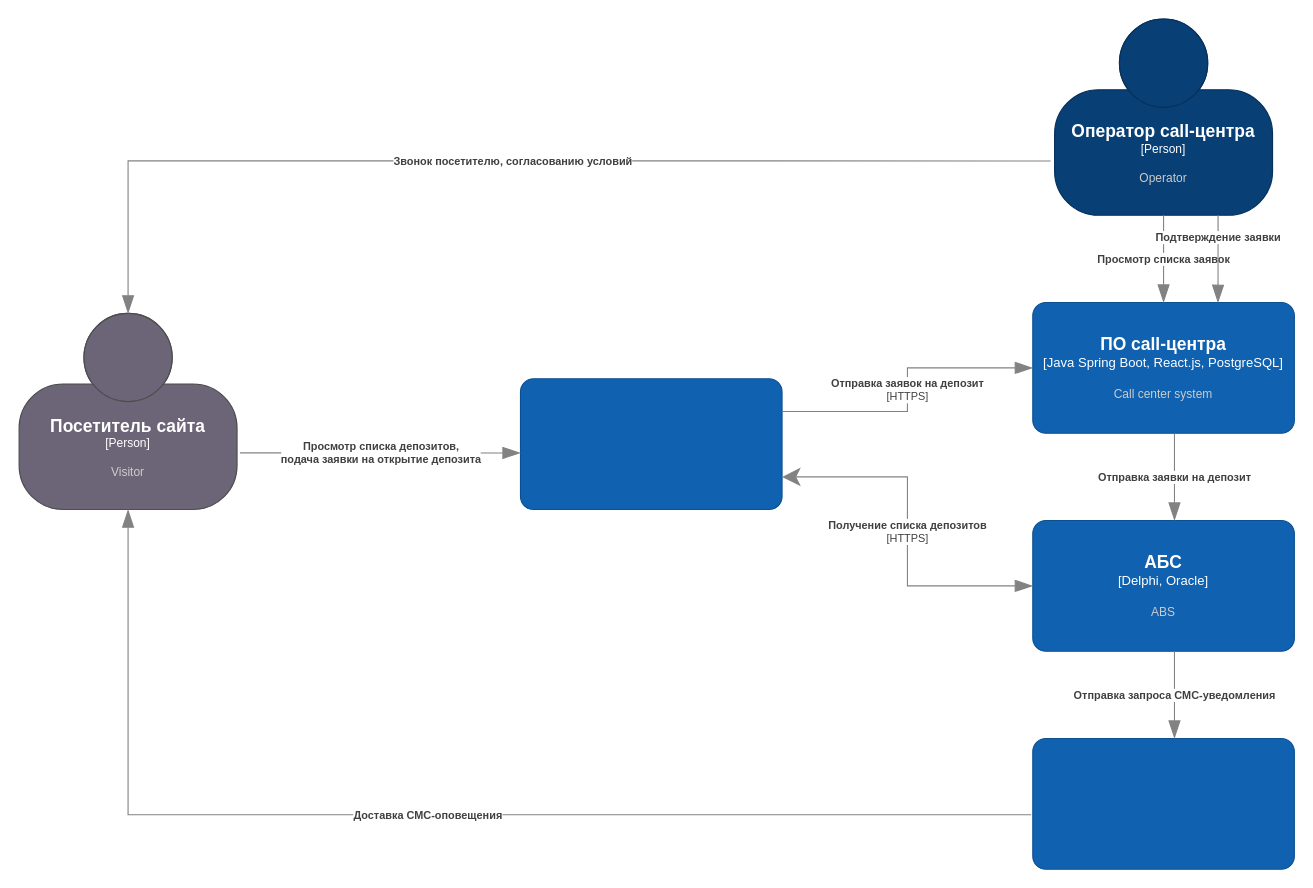
Image size: 1313x888. Some labels were removed from this diagram. The centre of each missing label's shape, as x and y in pixels:
"Сайт [php, react.js] Site" belongs at pixel 650 444.
"СМС-шлюз [нд] СМС-шлюз" belongs at pixel 1163 803.
